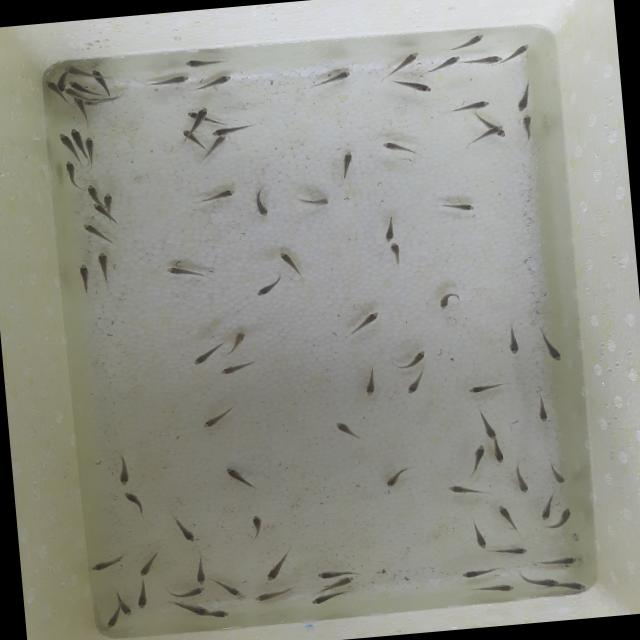fingerling: (163, 260, 207, 284), (343, 310, 383, 336), (263, 549, 293, 583), (446, 477, 492, 499), (380, 137, 422, 161), (276, 248, 306, 280), (541, 327, 566, 365), (85, 550, 128, 572), (168, 513, 199, 543), (194, 185, 238, 206), (313, 68, 353, 91), (144, 72, 195, 90), (461, 442, 488, 476), (390, 78, 434, 98), (474, 406, 499, 441), (388, 49, 421, 75), (332, 150, 357, 184), (501, 40, 532, 67), (226, 462, 257, 489), (213, 574, 244, 601), (212, 357, 256, 376), (393, 349, 431, 370), (202, 406, 238, 428), (535, 552, 584, 568), (224, 326, 250, 356), (382, 466, 414, 490), (437, 197, 475, 217), (251, 185, 273, 219), (543, 458, 569, 486), (428, 56, 464, 76), (447, 98, 492, 114), (522, 572, 558, 592), (114, 453, 135, 487), (531, 392, 554, 423), (199, 72, 234, 92), (294, 193, 335, 210), (333, 418, 362, 442), (244, 510, 268, 539), (189, 344, 222, 365), (458, 564, 500, 580), (180, 56, 227, 70), (136, 550, 161, 576), (172, 602, 208, 620), (446, 34, 486, 50), (255, 278, 287, 298), (81, 220, 110, 242), (514, 460, 532, 495), (548, 508, 574, 532), (124, 488, 146, 516), (496, 502, 518, 530), (62, 159, 82, 189), (404, 370, 429, 394), (90, 66, 112, 93), (206, 133, 230, 157), (134, 576, 152, 608), (254, 588, 295, 602), (315, 576, 356, 590), (309, 591, 346, 606), (208, 124, 250, 137), (94, 251, 112, 281), (470, 521, 488, 551), (537, 495, 557, 522), (477, 582, 513, 597), (468, 380, 506, 394), (518, 114, 538, 140), (504, 324, 520, 356), (513, 86, 531, 114), (460, 54, 504, 65), (491, 439, 512, 462), (70, 126, 86, 156), (498, 542, 529, 557), (64, 86, 88, 105), (100, 608, 120, 630), (314, 566, 354, 577), (364, 367, 379, 396), (91, 201, 111, 222), (194, 556, 208, 586), (116, 590, 132, 616), (173, 586, 207, 598), (439, 292, 461, 310), (58, 131, 73, 157), (79, 262, 92, 292), (62, 65, 91, 78), (388, 240, 402, 266), (47, 79, 62, 103), (182, 128, 200, 148), (382, 218, 395, 244), (564, 578, 588, 592), (474, 114, 494, 130), (86, 184, 100, 206), (102, 190, 116, 212), (86, 136, 96, 165), (194, 107, 208, 126), (208, 608, 232, 618), (484, 124, 504, 134), (68, 80, 86, 90)
